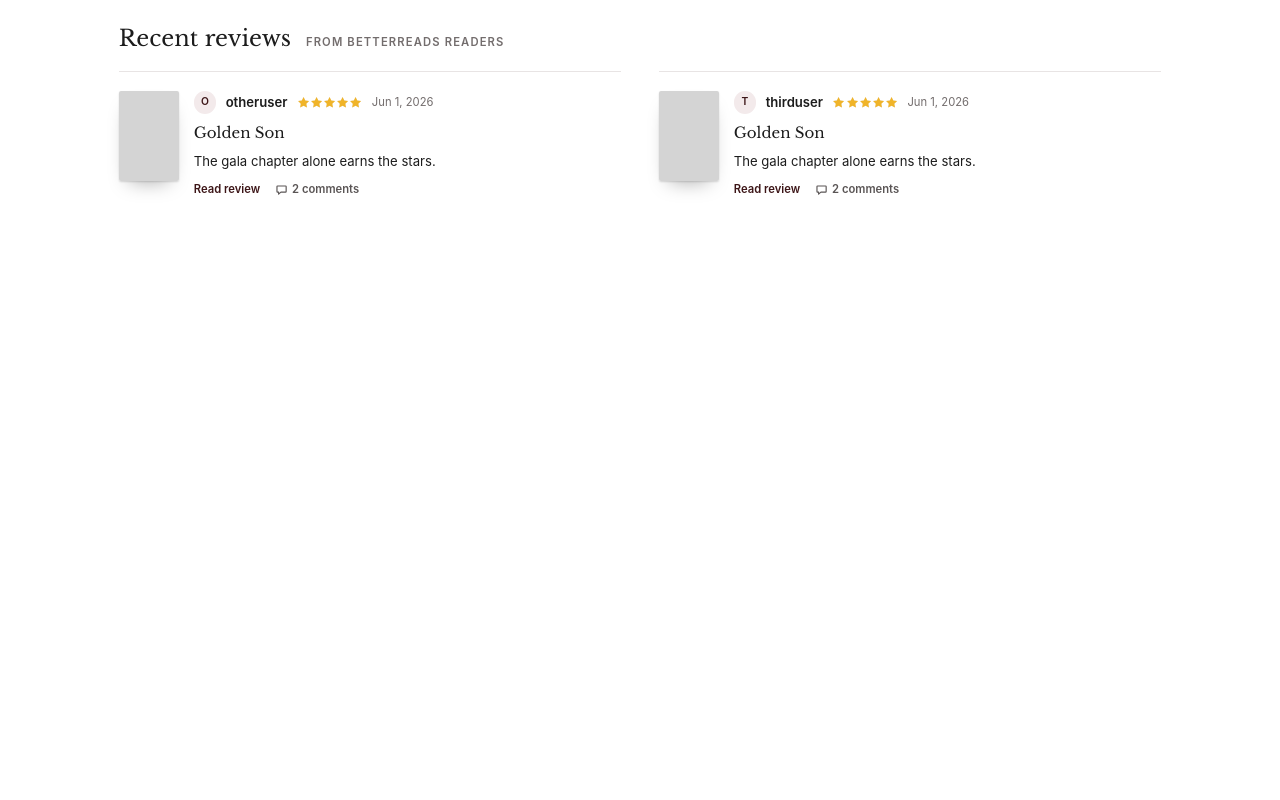
Test: RecentReviews › should show the next review
Click the button named "Read otheruser's review of Golden Son" at (370, 144), box x1=108 y1=72 x2=632 y2=215
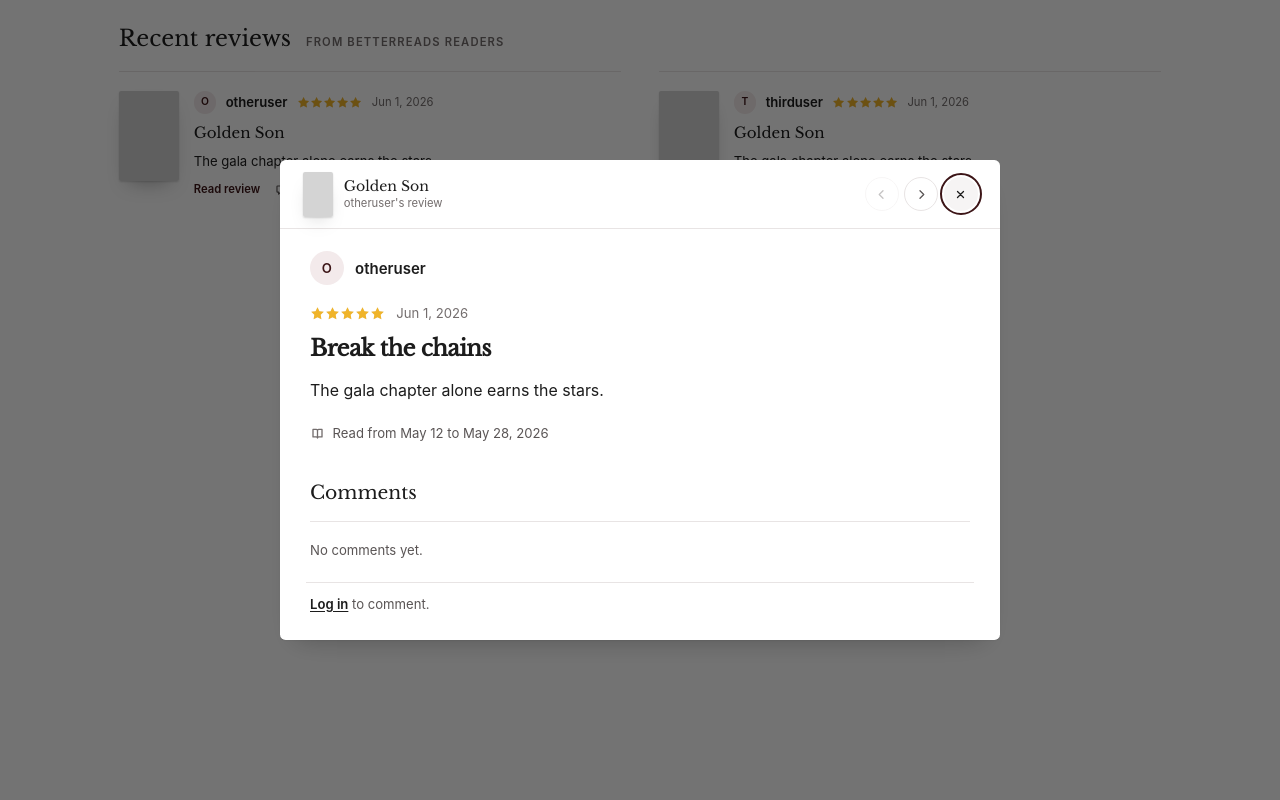
Click the button named "Next review" at (921, 194), box x1=904 y1=177 x2=938 y2=211
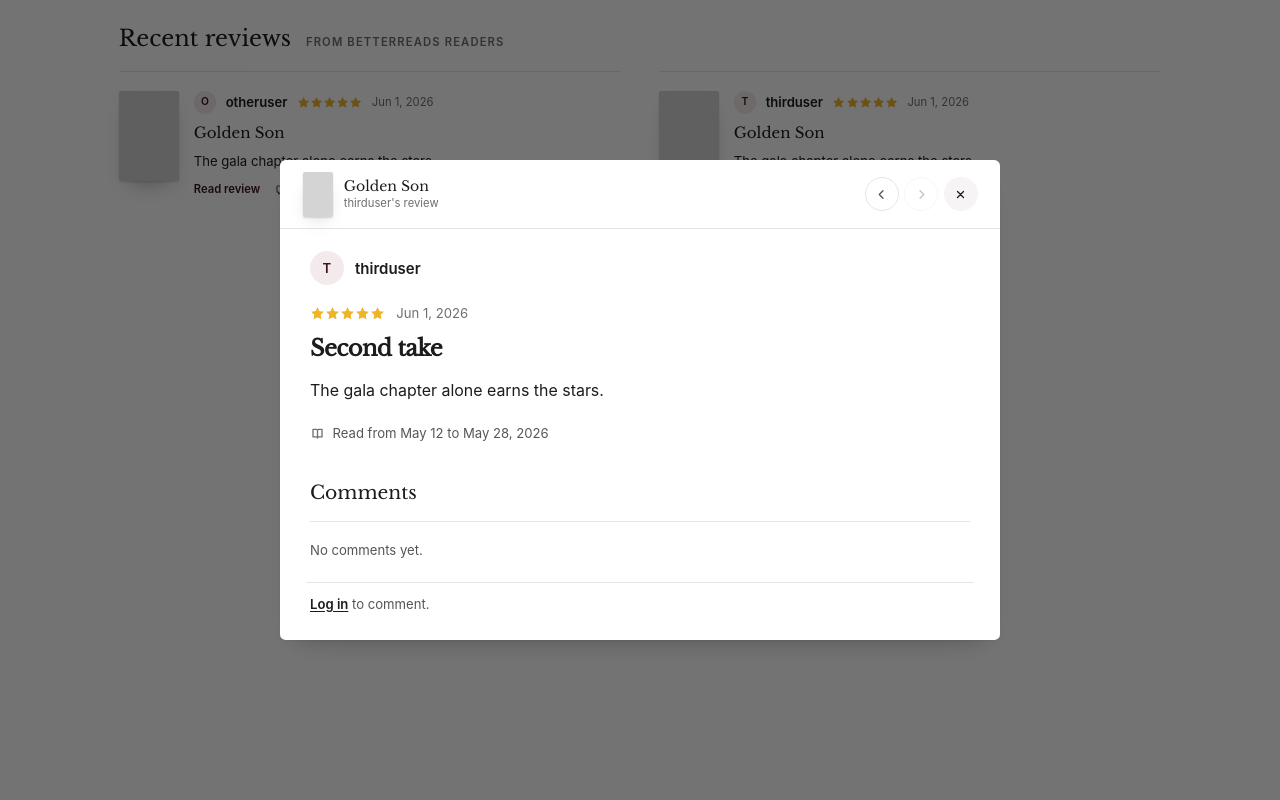
Expected: the heading "Second take" is shown, x1=310 y1=334 x2=442 y2=362
